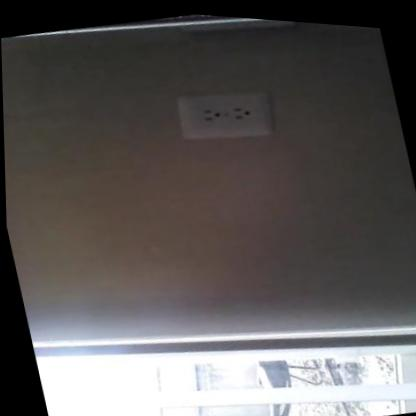OUTLET: (172, 78, 278, 152)
